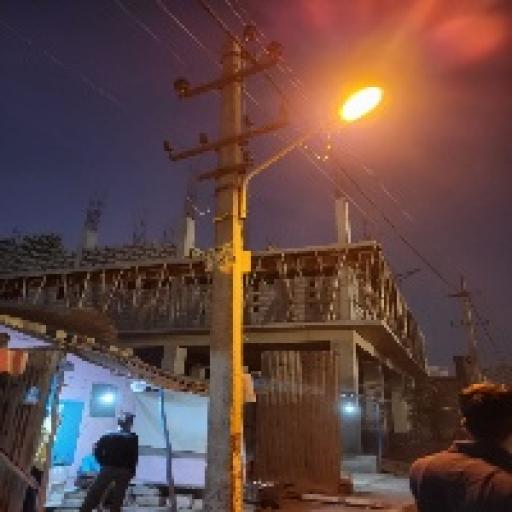Working: (327, 77, 391, 132)
